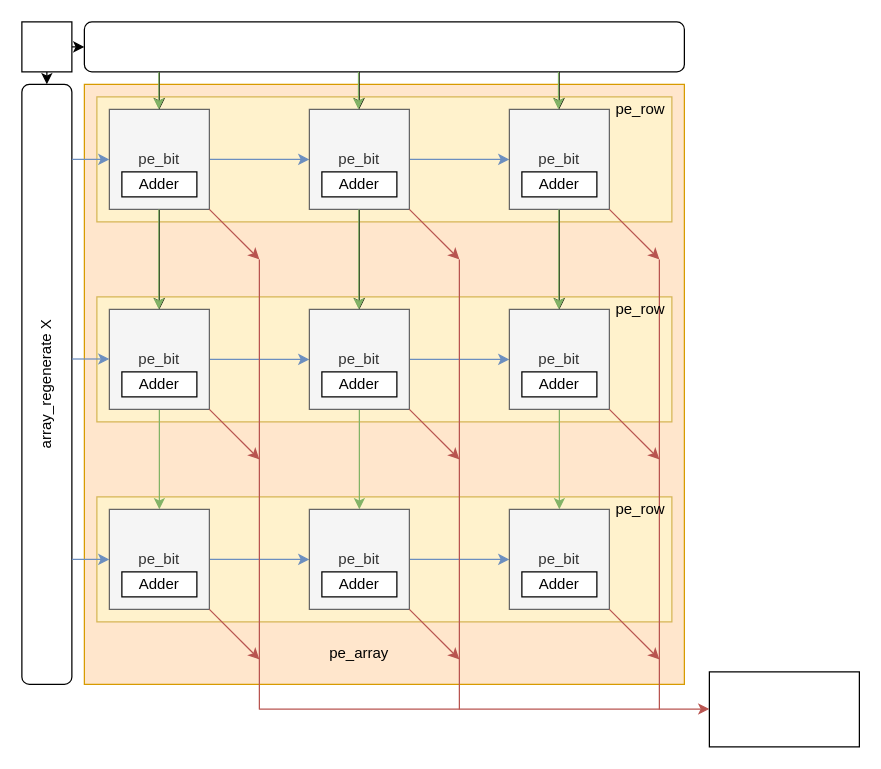
The diagram is 881 pixels wide and 769 high, and some of its shapes have lost their labels. Each missing label, with the centre of its shape:
array_regenerate Y: pixel 383 46
FSM: pixel 46 46
Result Buffer: pixel 783 709
